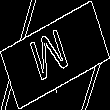M_SE: (32, 23, 78, 87)
